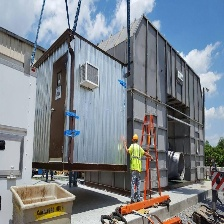helmet: (131, 131, 139, 144)
person: (130, 135, 144, 206)
vest: (128, 143, 145, 177)
